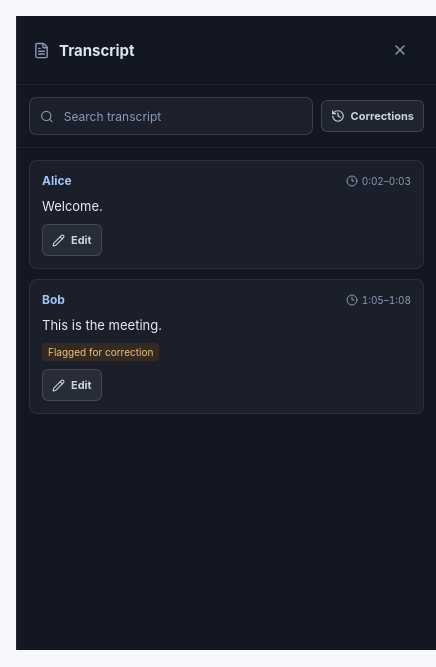
Test case: TranscriptPanel › cancels an edit without changing the transcript
Expected: the text "Welcome." is shown, [42,196,103,216]
Click the button with aria-label "Edit segment 1" at (72, 240), box [42,224,102,256]
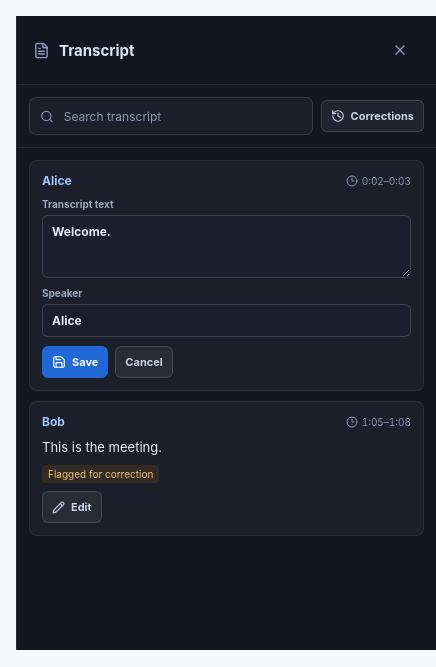
Replace the text in the text box named "Edit transcript text for segment 1" with "Cancelled text" at (226, 246), box [42,215,411,278]
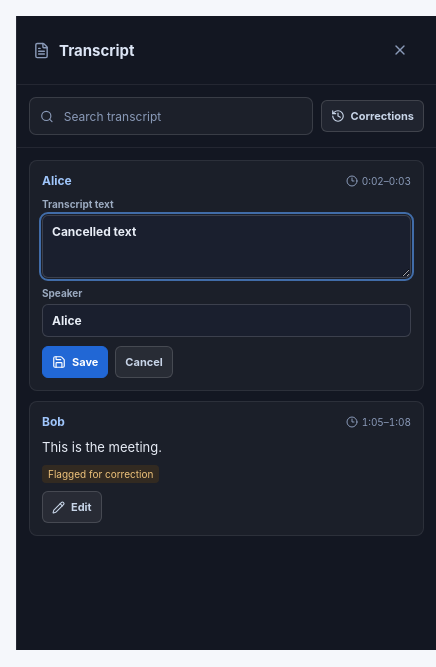
Click the button "Cancel" at (144, 362), box [115,346,173,378]
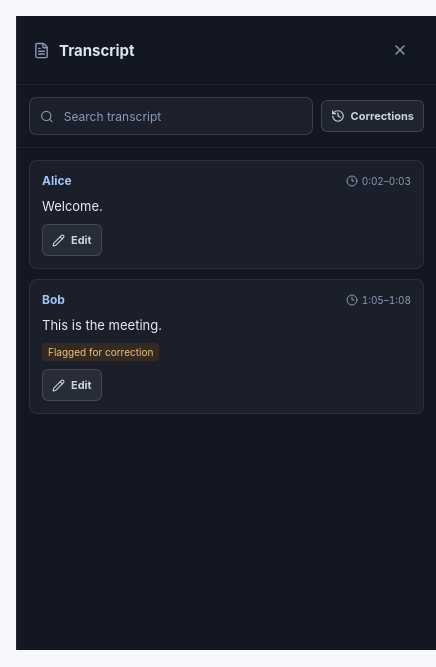
Now the text "Welcome." is shown, box [42,196,103,216]
